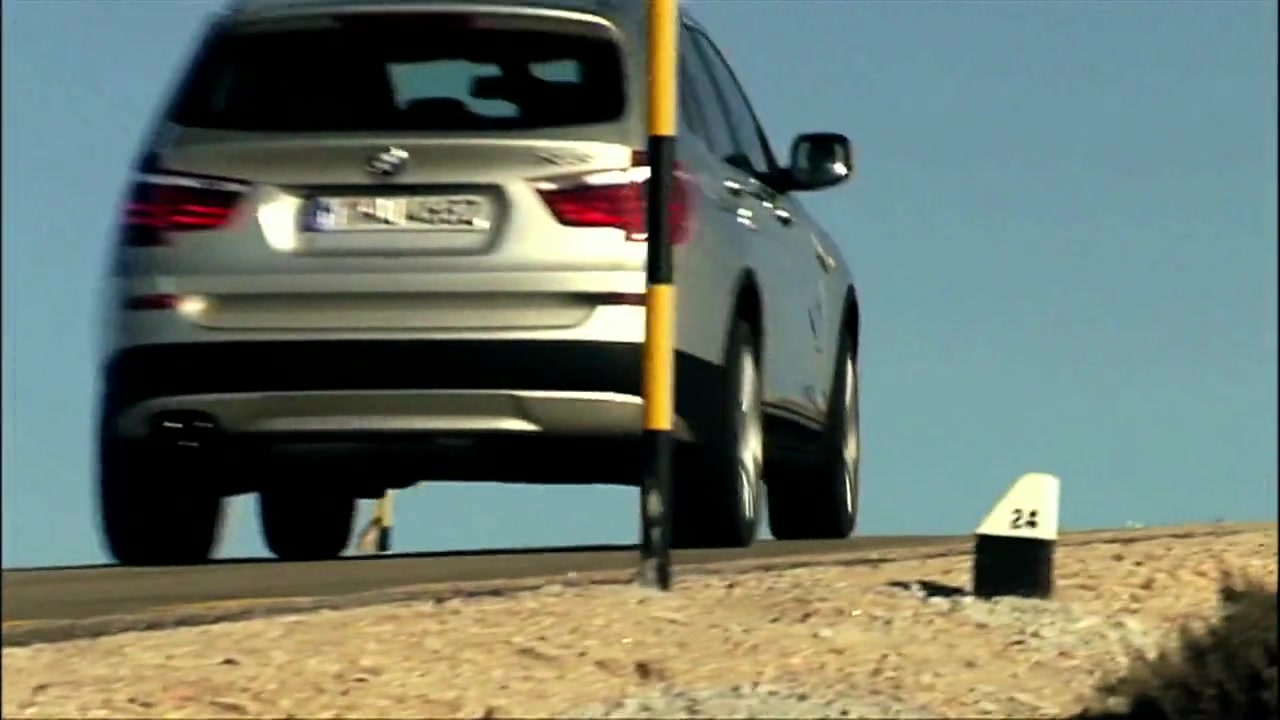car: (99, 1, 866, 570)
